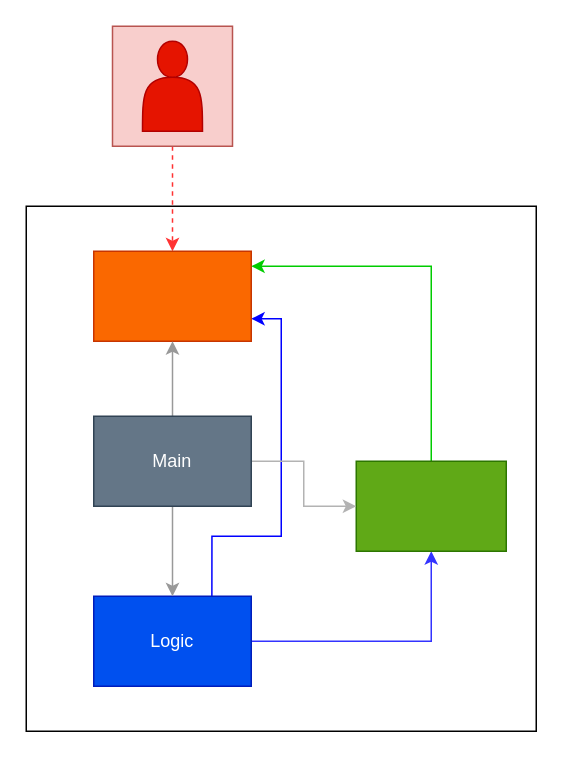
This 563x758 diagram has some shape labels left out. Each missing label, with the centre of its shape:
"Manager" belongs at point 430,505.
"UI" belongs at point 171,295.
